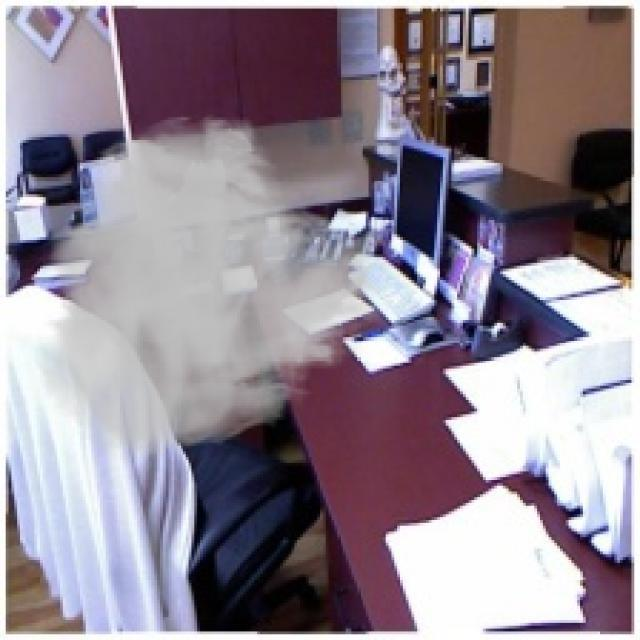Smoke: (32, 111, 394, 463)
